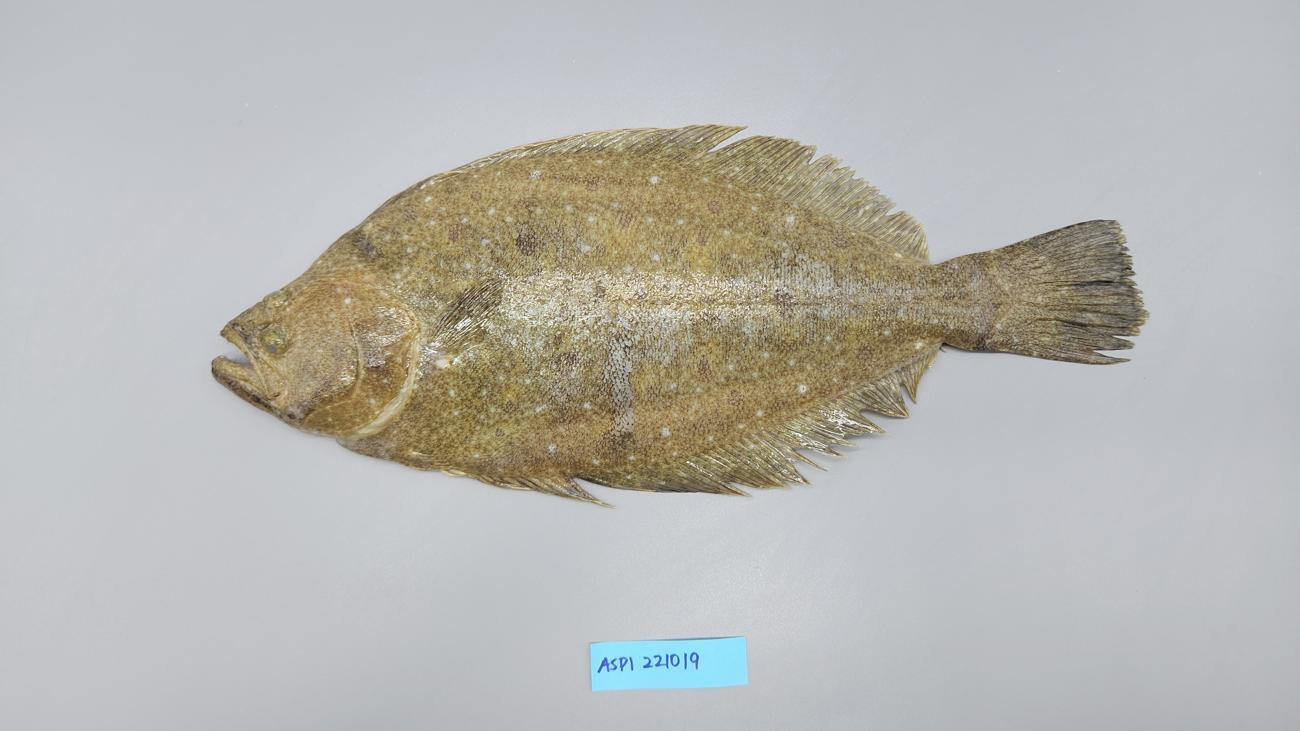SPFCH: (1030, 218, 1149, 364)
SPOUY: (203, 117, 1158, 513)
